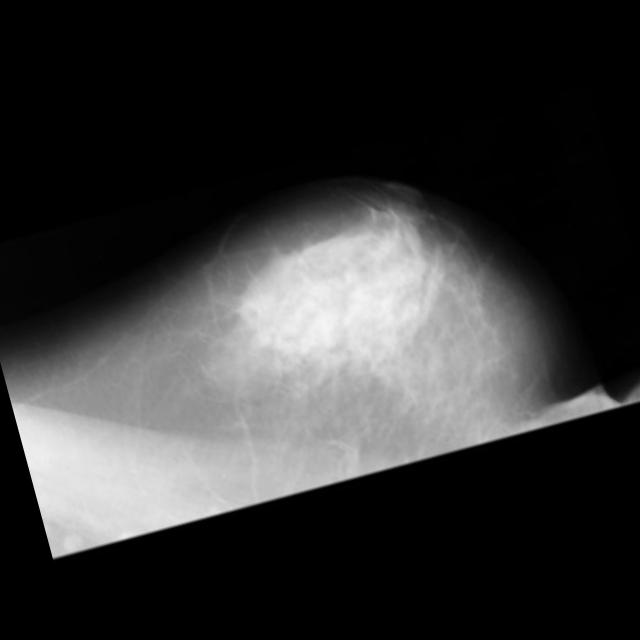CALC: (66, 272, 71, 276)
